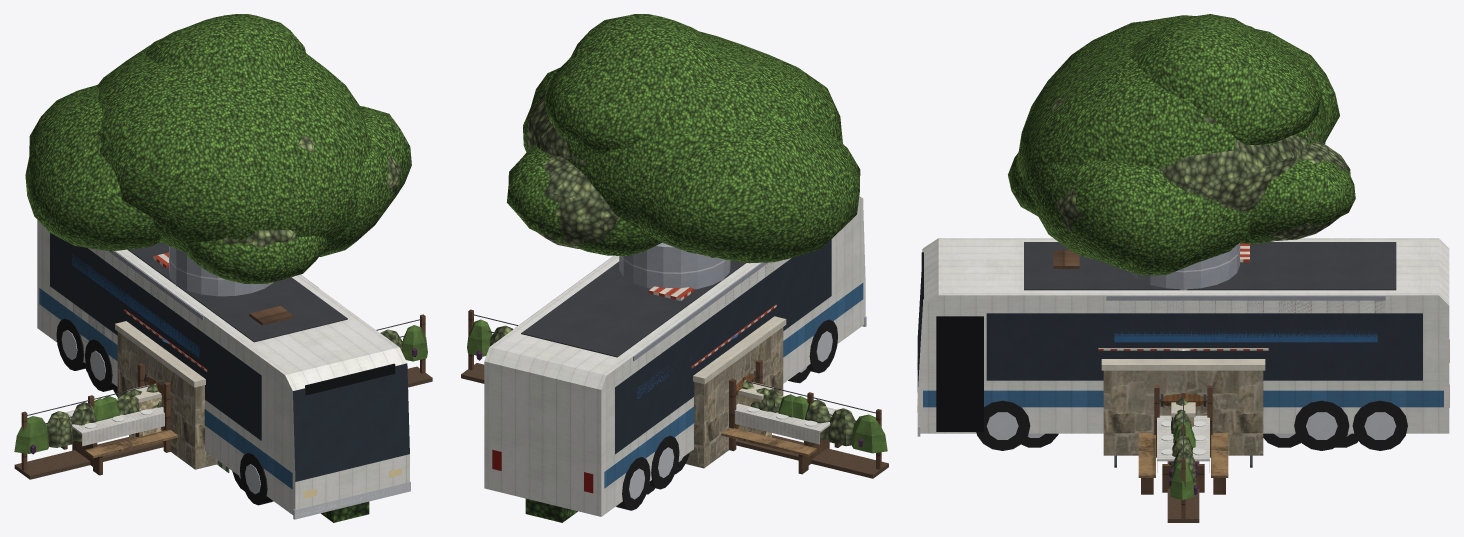
File: marlow-estate-props.glb
3 views of the same model, side by side, from view 1: azimuth 30°, elevation 25°; view 2: azimuth 150°, elevation 25°; view 3: azimuth 270°, elevation 25° (orthographic). The views are drawn at different scales.
Parts seen in each view (by area): view 1: plane-tree_crown, coach_body, coach_glass, coach_roof, coach_trim, cistern_body, vines-9_leaves, coach_wheels, vat_tank, lorry_trim, vines-9_soil, feast-table_cloth (+7 smaller); view 2: plane-tree_crown, coach_body, coach_glass, coach_roof, cistern_body, vines-9_leaves, vat_tank, coach_trim, coach_wheels, vines-9_soil, feast-table_cloth, cistern_cap (+6 smaller); view 3: plane-tree_crown, coach_body, coach_glass, coach_roof, coach_trim, cistern_body, coach_wheels, lorry_trim, feast-table_wood, vat_tank, coach_hubs, cistern_cap (+5 smaller).
Boxes of the visible parts, box(x1,y1,x2,y2) form: plane-tree_crown: box(25, 14, 411, 283); coach_body: box(37, 220, 409, 516); coach_glass: box(50, 233, 261, 440); coach_roof: box(128, 242, 347, 342); coach_trim: box(39, 288, 410, 519); cistern_body: box(117, 332, 217, 469); vines-9_leaves: box(14, 325, 427, 453); coach_wheels: box(56, 318, 273, 505); vat_tank: box(169, 246, 273, 296); lorry_trim: box(72, 251, 318, 357); vines-9_soil: box(14, 366, 432, 479); feast-table_cloth: box(65, 399, 164, 446); plane-tree_crown: box(507, 14, 860, 263); coach_body: box(484, 196, 865, 516); coach_glass: box(615, 239, 831, 454); coach_roof: box(521, 260, 746, 357); cistern_body: box(685, 327, 783, 468); vines-9_leaves: box(467, 319, 887, 453); vat_tank: box(619, 242, 730, 289); coach_trim: box(492, 283, 866, 493); coach_wheels: box(616, 319, 837, 510); vines-9_soil: box(461, 363, 888, 478); feast-table_cloth: box(735, 396, 836, 444); cistern_cap: box(693, 316, 786, 384); plane-tree_crown: box(1008, 14, 1355, 275); coach_body: box(917, 238, 1449, 433); coach_glass: box(986, 313, 1422, 380); coach_roof: box(1024, 242, 1396, 290); coach_trim: box(917, 252, 1449, 436); cistern_body: box(1103, 370, 1263, 455); coach_wheels: box(976, 400, 1407, 450); lorry_trim: box(1106, 296, 1385, 342); feast-table_wood: box(1138, 433, 1228, 494); vat_tank: box(1129, 243, 1239, 290); coach_hubs: box(986, 412, 1396, 439); cistern_cap: box(1101, 359, 1265, 370).
Size of the model in its own units: 9.22 by 8.96 by 10.01.
Materials: 45 (45 with a texture image).
